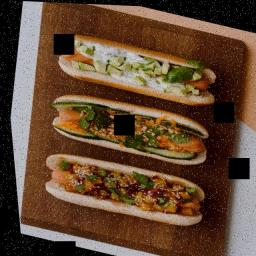hotdog: (29, 144, 209, 236), (47, 24, 220, 114), (42, 88, 211, 170)
